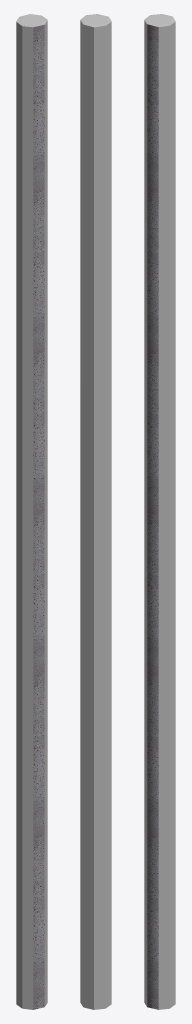
File: SM_metal_fence_02.fbx
The picture shows the model from 3 angles, left to right: view 1: azimuth 30°, elevation 25°; view 2: azimuth 150°, elevation 25°; view 3: azimuth 330°, elevation 25°; orthographic projection.
Parts seen in each view (by area): view 1: SM_metal_fence_02_ConvexHulls, SM_metal_fence_02; view 2: SM_metal_fence_02_ConvexHulls; view 3: SM_metal_fence_02_ConvexHulls, SM_metal_fence_02.
Boxes of the visible parts, x1=… form: SM_metal_fence_02_ConvexHulls: x1=16, y1=14, x2=47, y2=1009; SM_metal_fence_02: x1=33, y1=24, x2=44, y2=1009; SM_metal_fence_02_ConvexHulls: x1=80, y1=14, x2=111, y2=1009; SM_metal_fence_02_ConvexHulls: x1=144, y1=14, x2=175, y2=1009; SM_metal_fence_02: x1=147, y1=24, x2=158, y2=1009.
Bounding box in the file's own units: 6.82 × 6.65 × 250.
2 materials, 1 textured.
